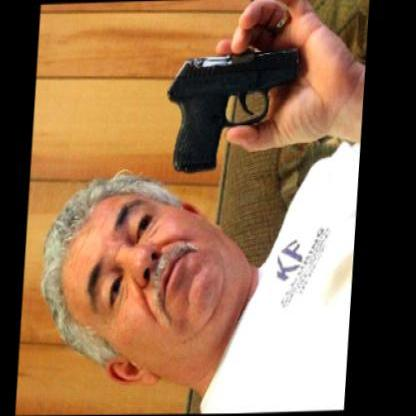pistol: (156, 43, 304, 178)
